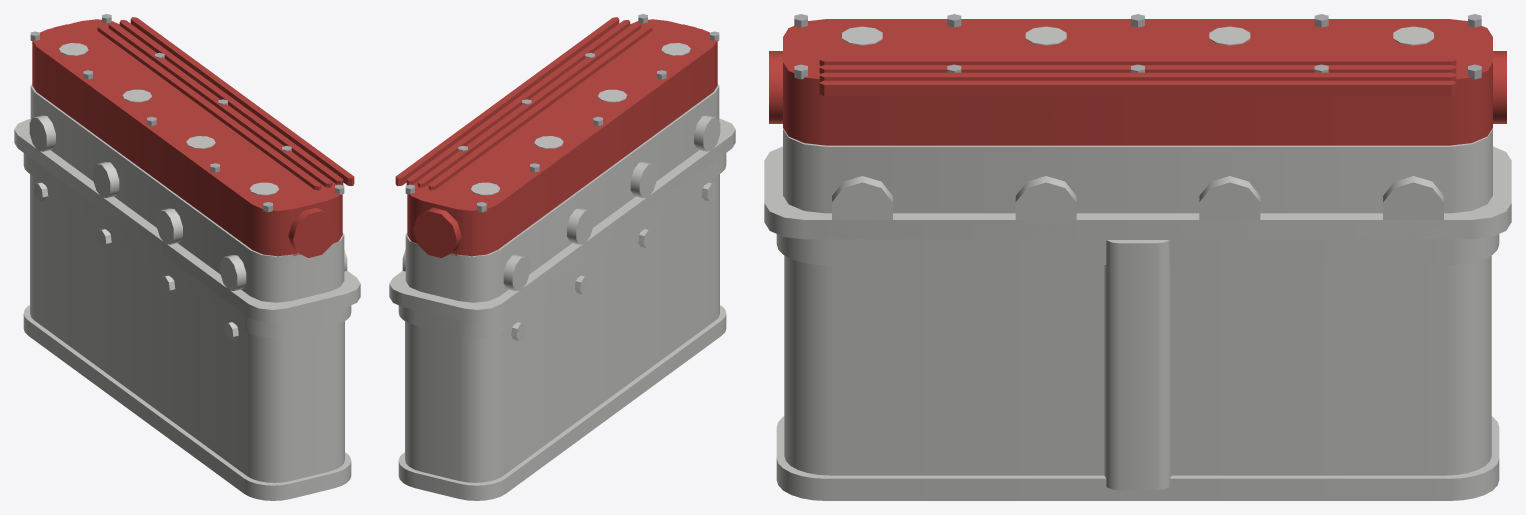
Rendered from hot_cam_lod1.glb.
3 views of the same model, side by side, from view 1: azimuth 30°, elevation 25°; view 2: azimuth 150°, elevation 25°; view 3: azimuth 270°, elevation 25° (orthographic). The views are drawn at different scales.
Visible parts, largest first — view 1: hot_cam_lod1; view 2: hot_cam_lod1; view 3: hot_cam_lod1.
Boxes of the visible parts, left/top/right/bottom form: hot_cam_lod1: left=14, top=14, right=360, bottom=500; hot_cam_lod1: left=389, top=14, right=735, bottom=500; hot_cam_lod1: left=764, top=14, right=1511, bottom=500.
Size of the model in its own units: 0.1225 by 0.3043 by 0.488.
